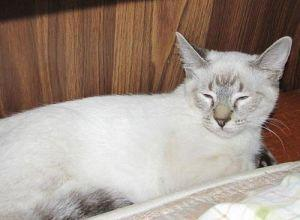siamese: (171, 25, 294, 148)
